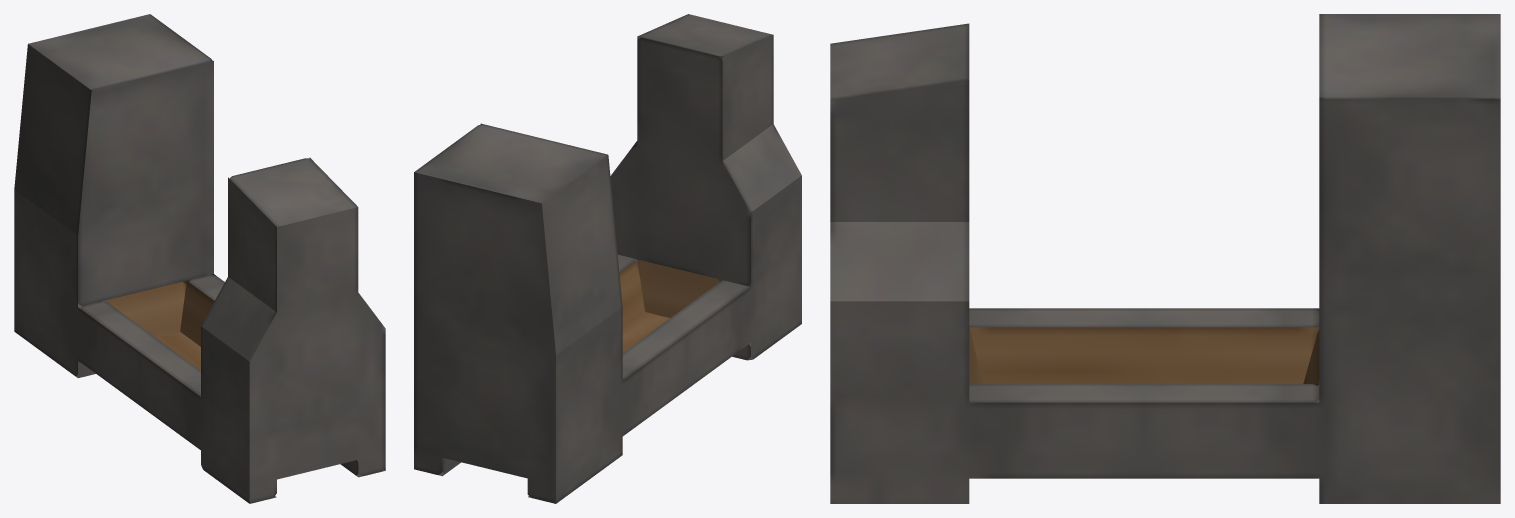
3 views of the same model, side by side, from view 1: azimuth 30°, elevation 25°; view 2: azimuth 150°, elevation 25°; view 3: azimuth 270°, elevation 25° (orthographic). The views are drawn at different scales.
Visible parts, largest first — view 1: base; view 2: base; view 3: base.
Part boxes in pixels (x1,y1,x2,y2): base: (14,14,385,503); base: (414,14,801,503); base: (830,14,1500,503).
Bounding box in the file's own units: 1 × 2 × 3.
